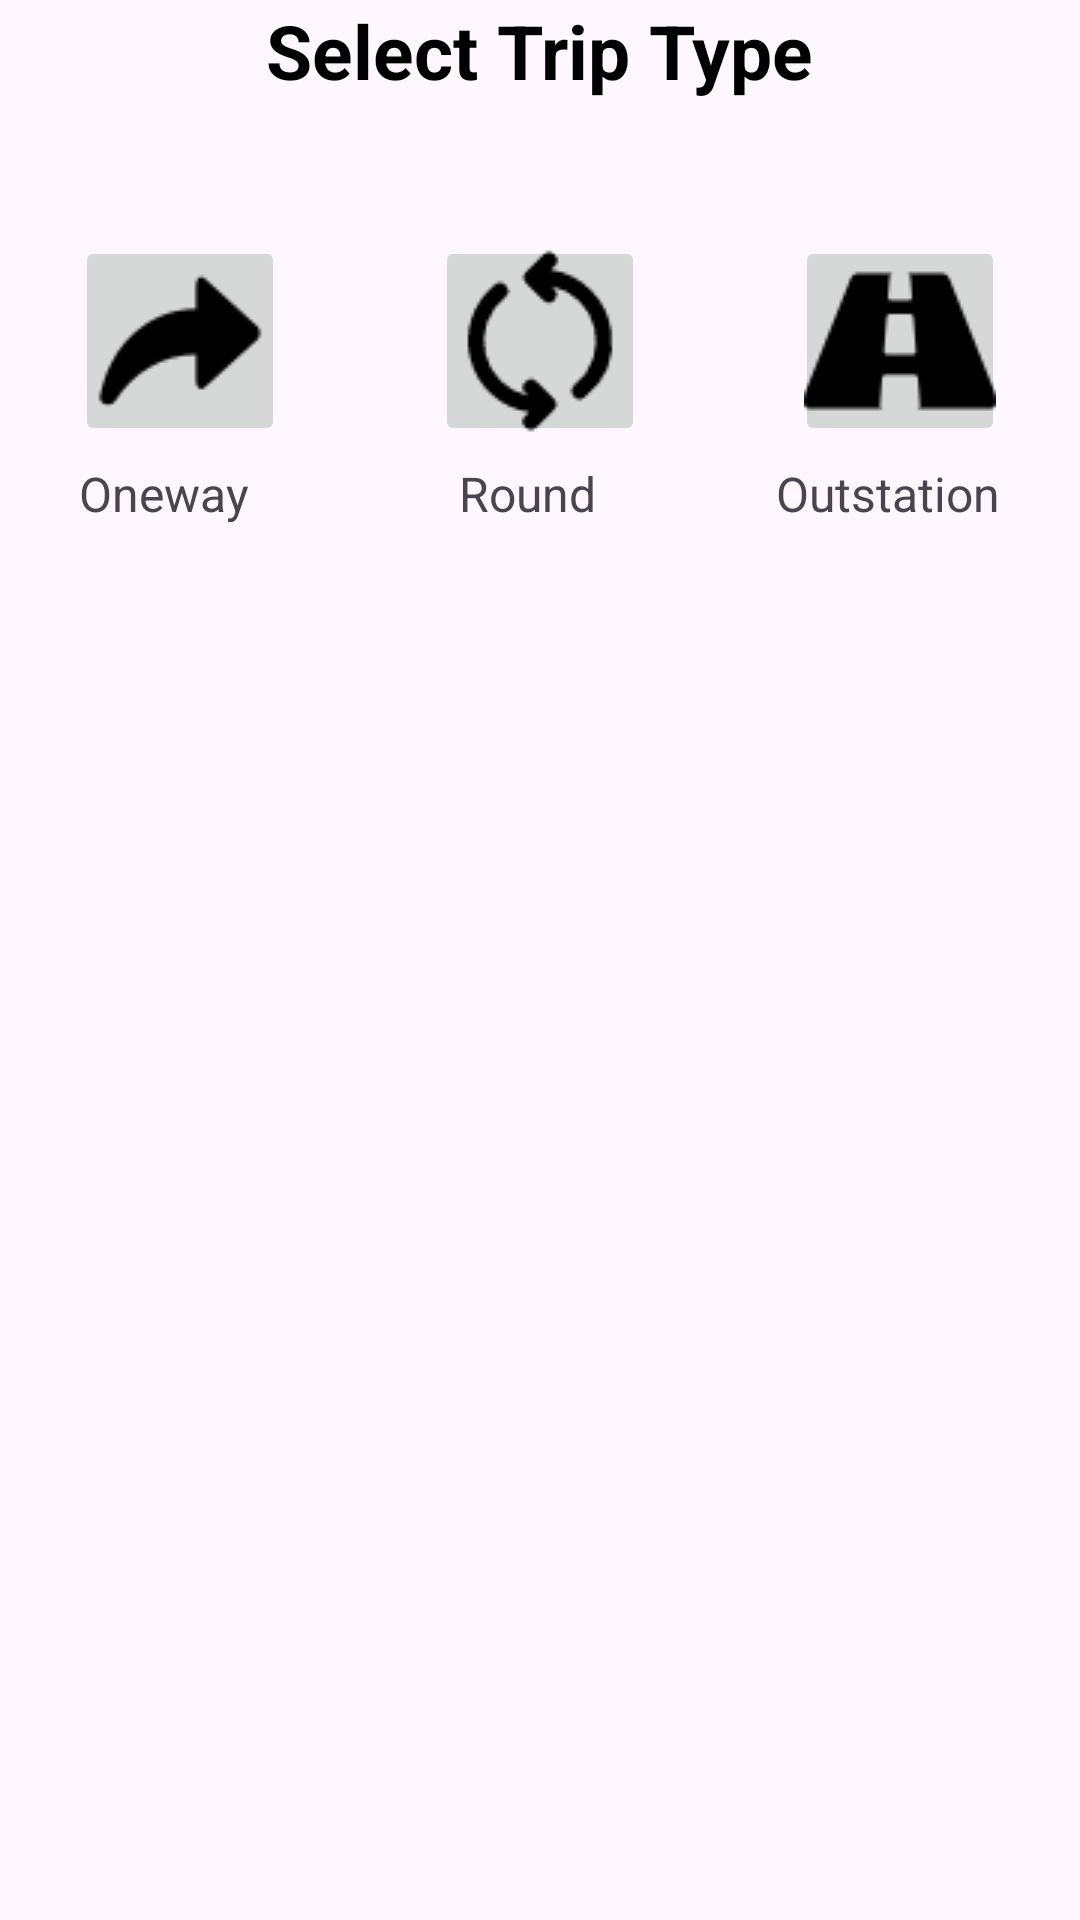

Point at icon controls on the screen. Image size 1080w x 1920h, points as (x,y).
road: (900,341)
